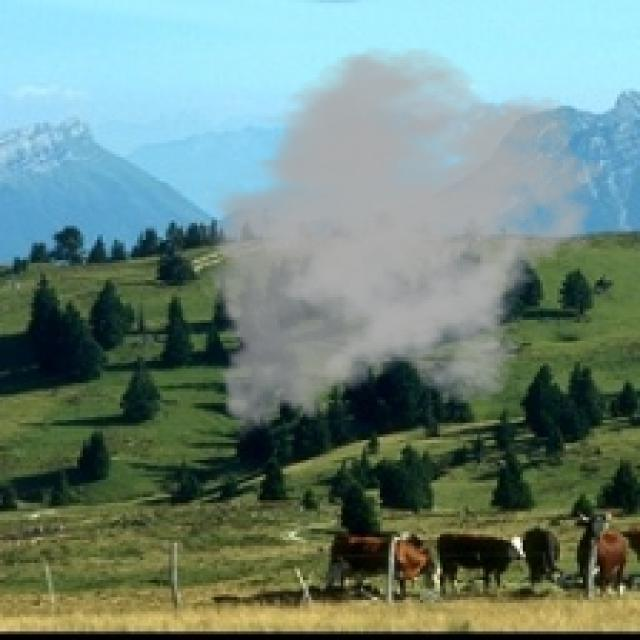smoke: (197, 46, 609, 446)
